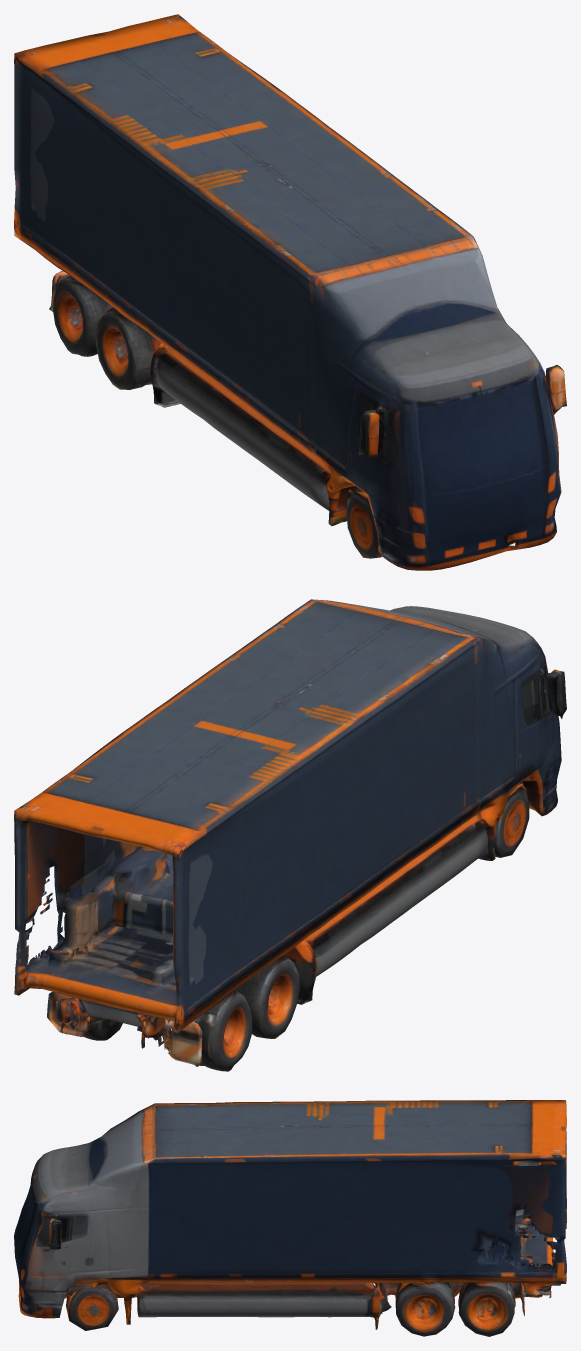
Rendered from logistics-truck.glb.
3 renders of one model, top to bottom at view 1: azimuth 30°, elevation 25°; view 2: azimuth 150°, elevation 25°; view 3: azimuth 270°, elevation 25°, orthographic. The views are drawn at different scales.
Size of the model in its own units: 0.5843 by 0.7286 by 2.
1 material, 1 textured.
